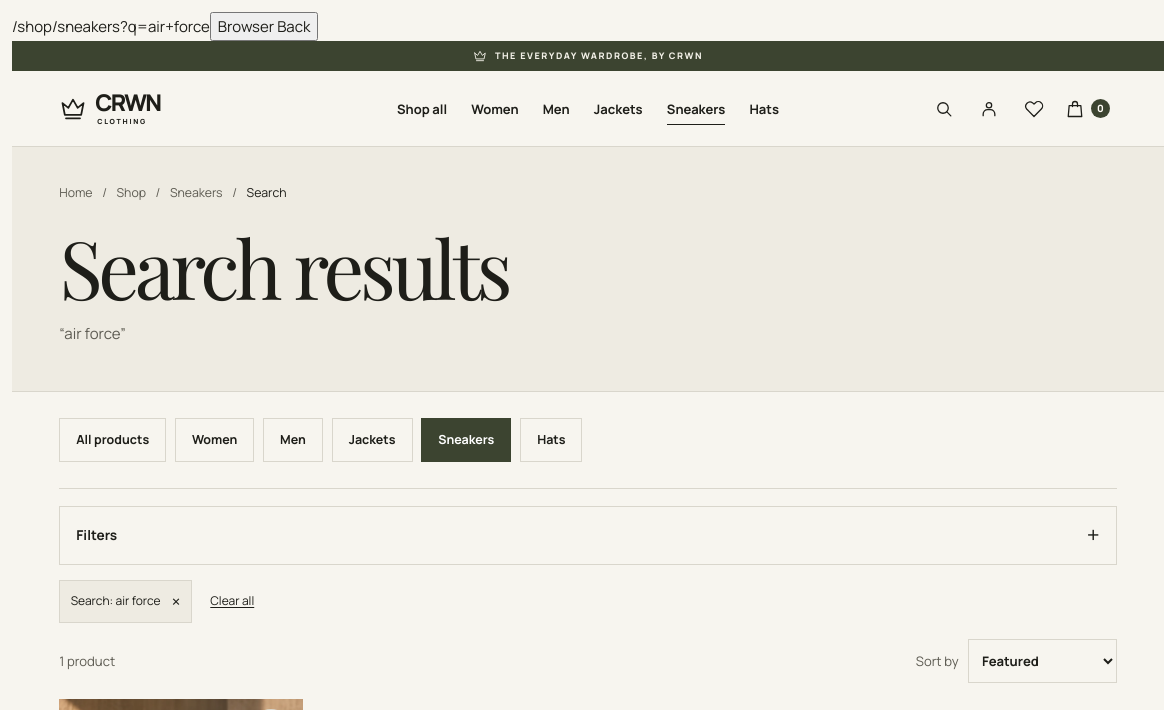
finds the same sneaker for air force and respects the selected collection
Check: the text "1 product" is shown, box [59,651,115,672]
Click the link "Hats" in the row of "All products" at (551, 440), box [520,418,582,462]
(page scrolled)
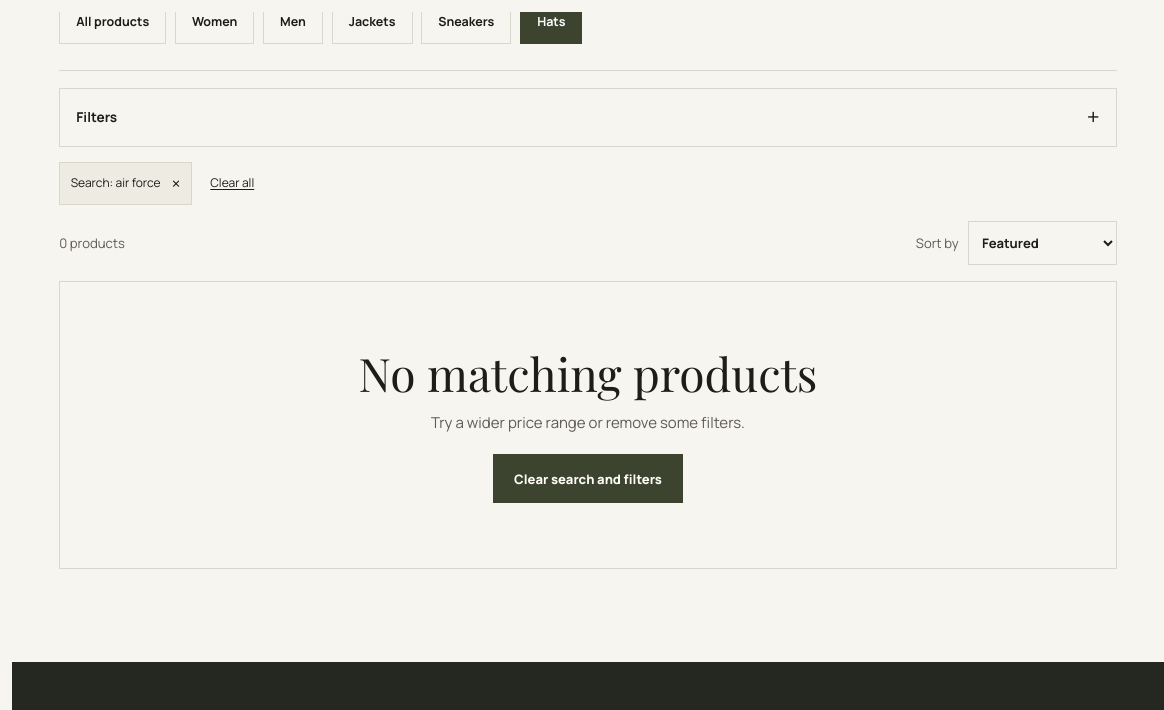
Check: the heading "No matching products" is shown, box [358,348,817,398]
